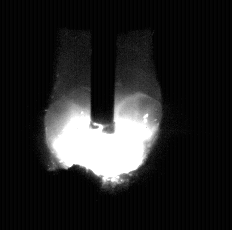arame: (91, 0, 116, 133)
poca: (45, 0, 158, 230)
